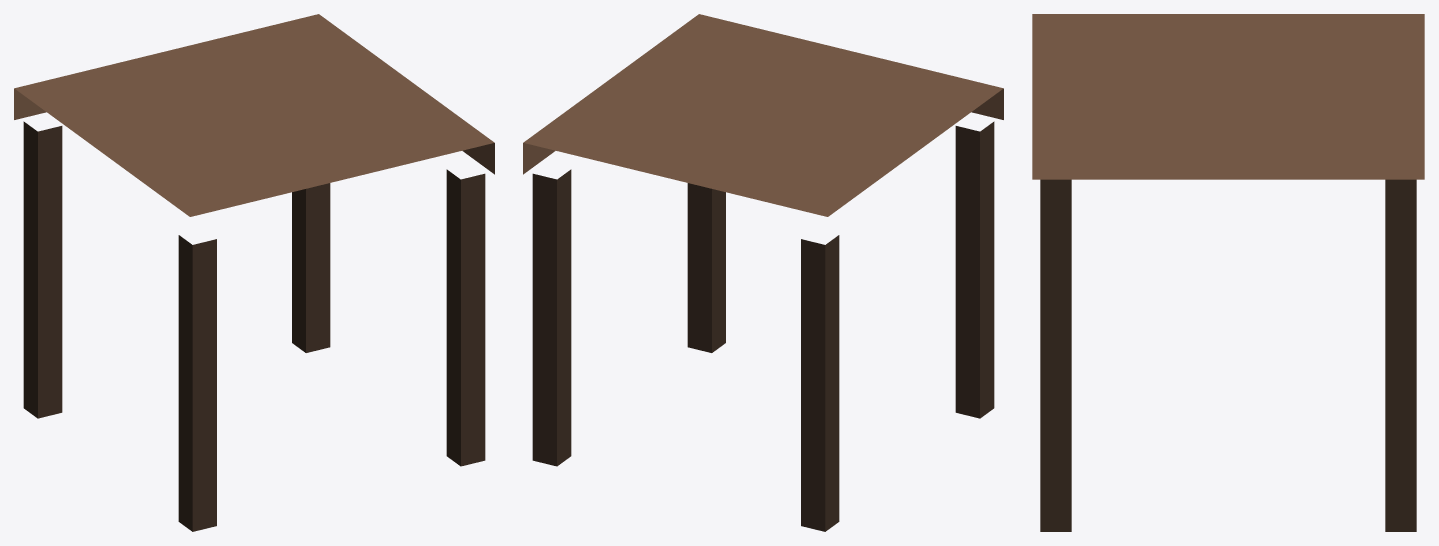
The model's file is Table-brown.glb.
3 renders of one model, left to right at view 1: azimuth 30°, elevation 25°; view 2: azimuth 150°, elevation 25°; view 3: azimuth 270°, elevation 25°, orthographic. The views are drawn at different scales.
Parts seen in each view (by area): view 1: Table; view 2: Table; view 3: Table.
Part boxes in pixels (x1,y1,x2,y2): Table: (14, 14, 494, 531); Table: (523, 14, 1003, 531); Table: (1032, 14, 1424, 531).
Bounding box in the file's own units: 1 × 1 × 1.
